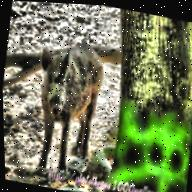boar: (13, 15, 119, 162)
